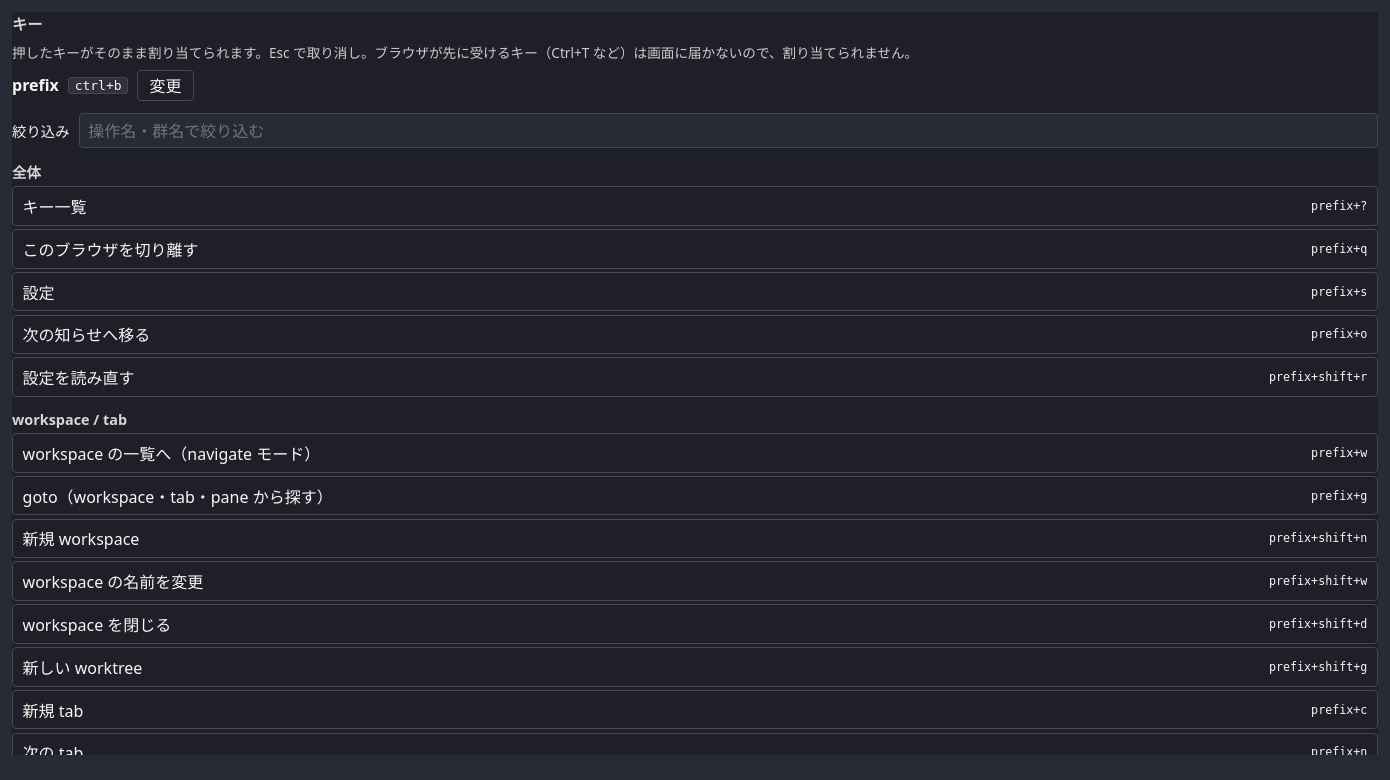
Test: KeySettings — 取り込み待ちの取り消しと漏らさない（AC-I1・AC-I5） › Esc で取り消し、何も変えない。keydown は preventDefault・stopPropagation される（ダイアログを閉じない）
Click the button "変更". click: (166, 85)
box: [137,70,194,101]
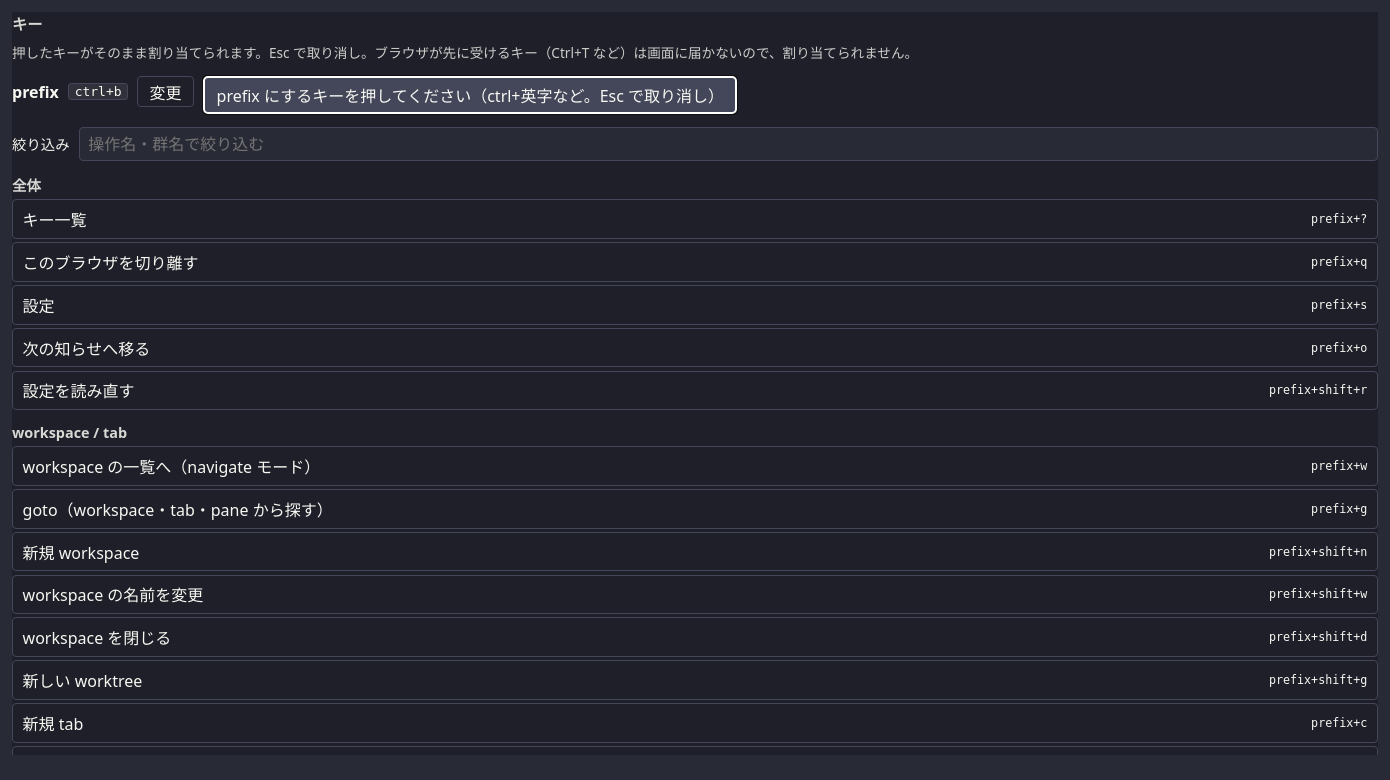
Press Escape in the button with class "keys-capture", box [203,76,737,114]
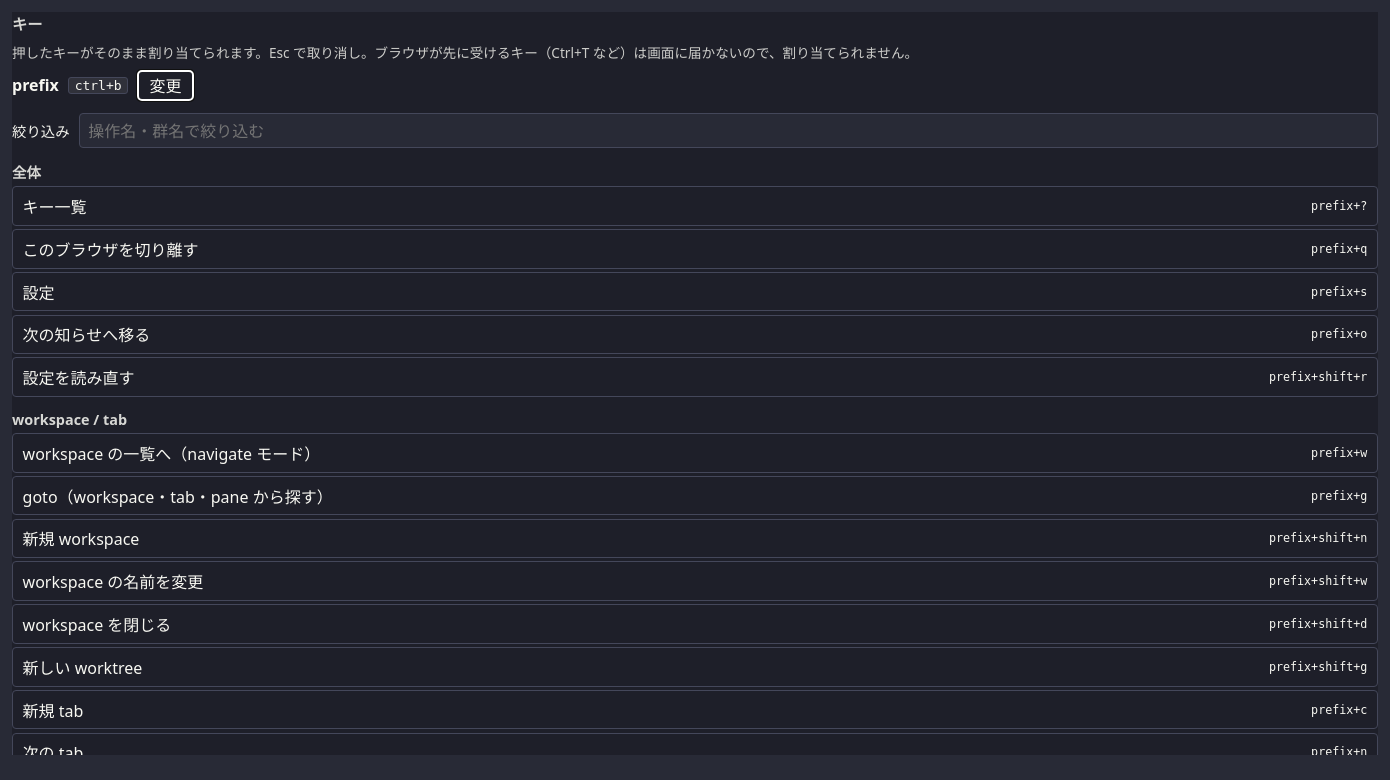
Expected: the text "ctrl+b" is shown, [68,77,128,94]
Expected: the button with class "keys-capture" is gone
